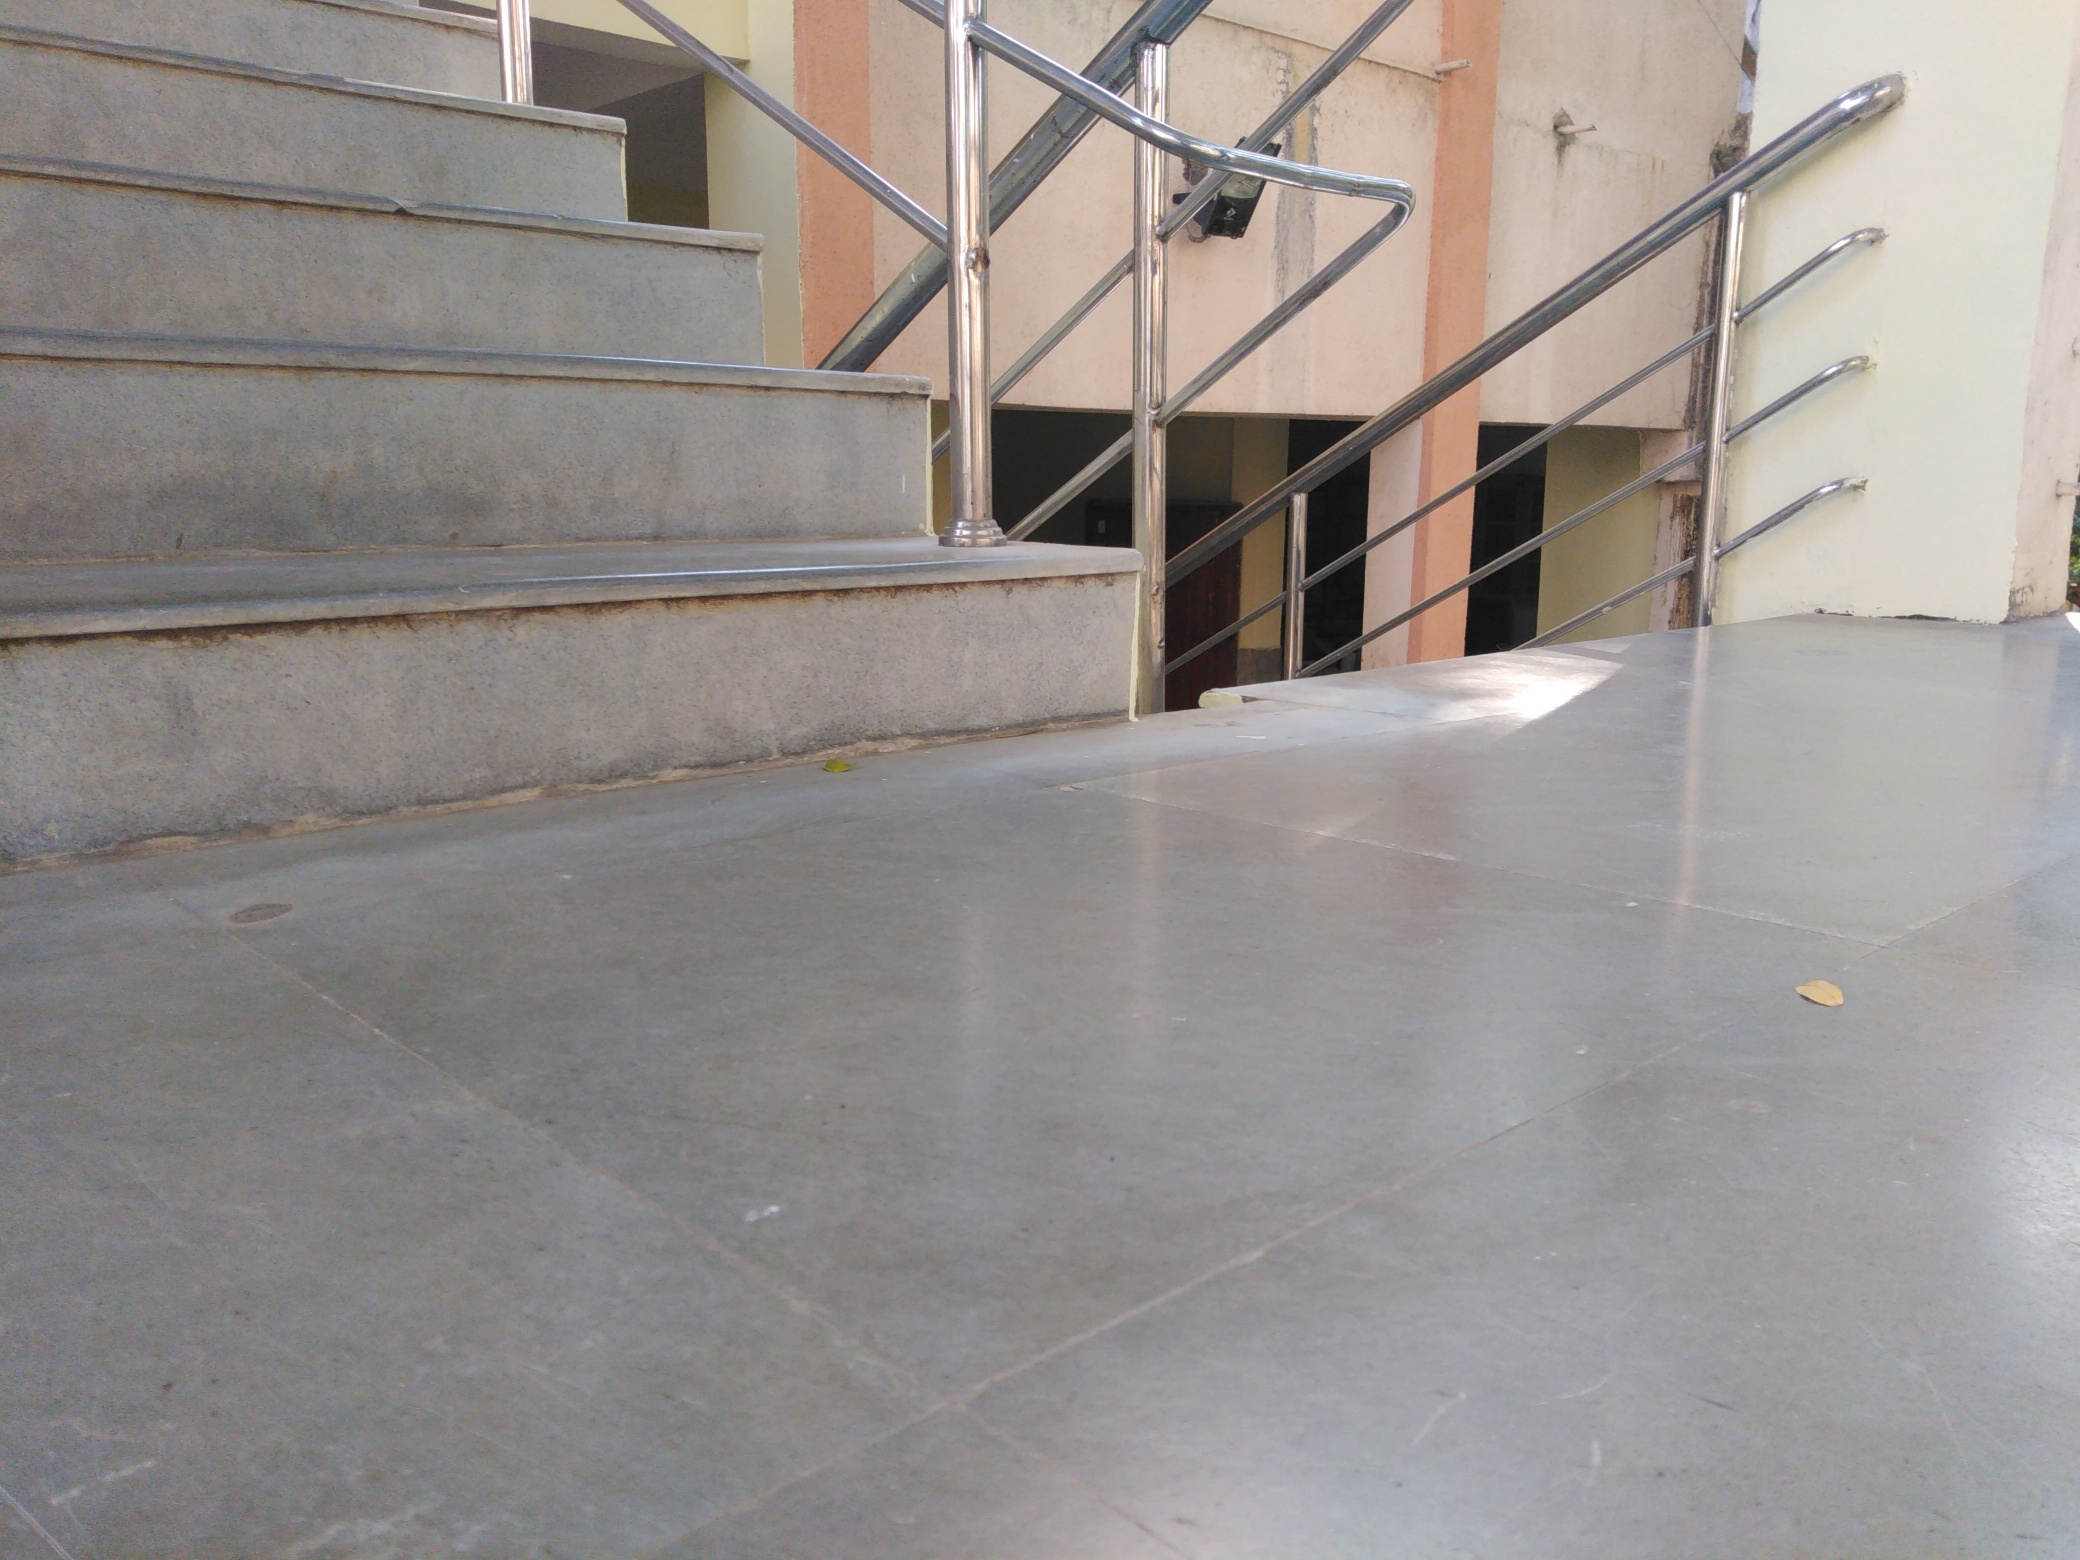stairs_up: (15, 8, 1161, 831)
